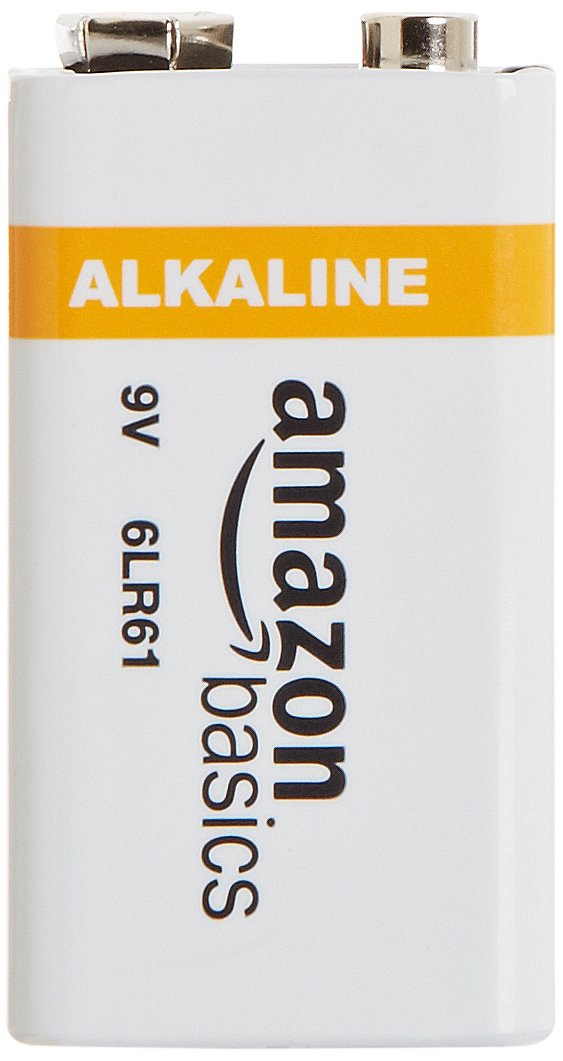9V: (11, 17, 557, 1048)
